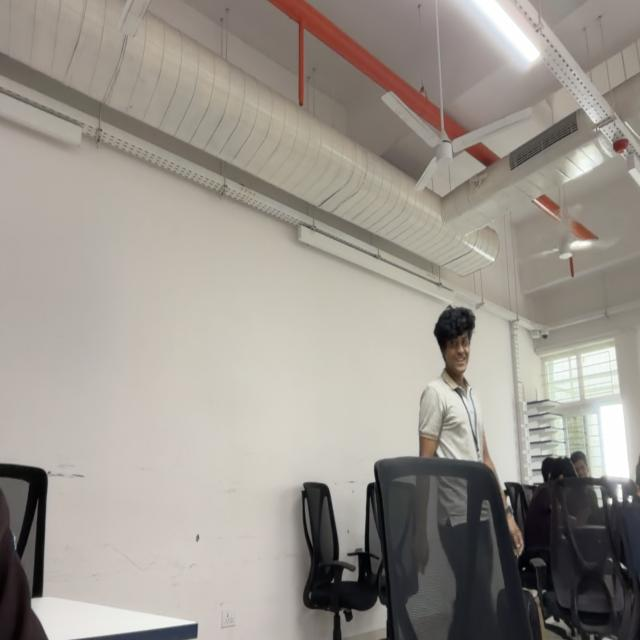kshitij: (434, 305, 475, 376)
